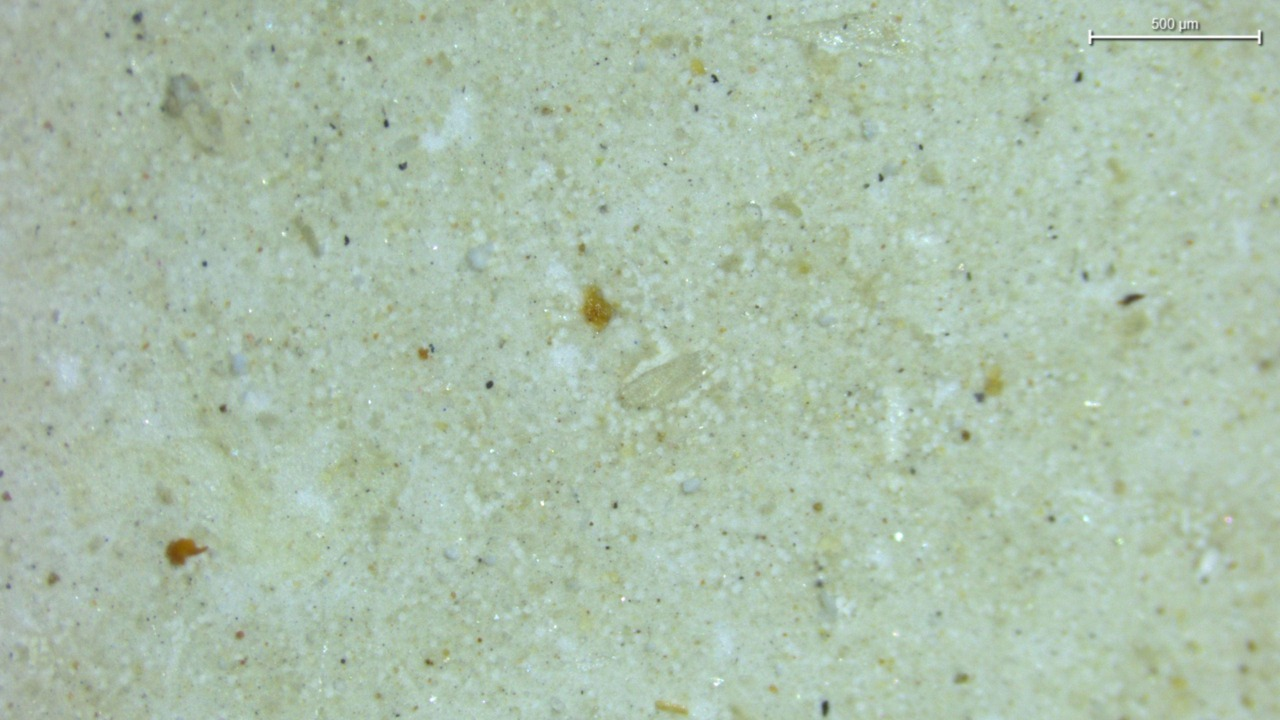microplastic_fragment: (619, 353, 703, 408), (465, 243, 494, 271), (682, 478, 702, 493)
